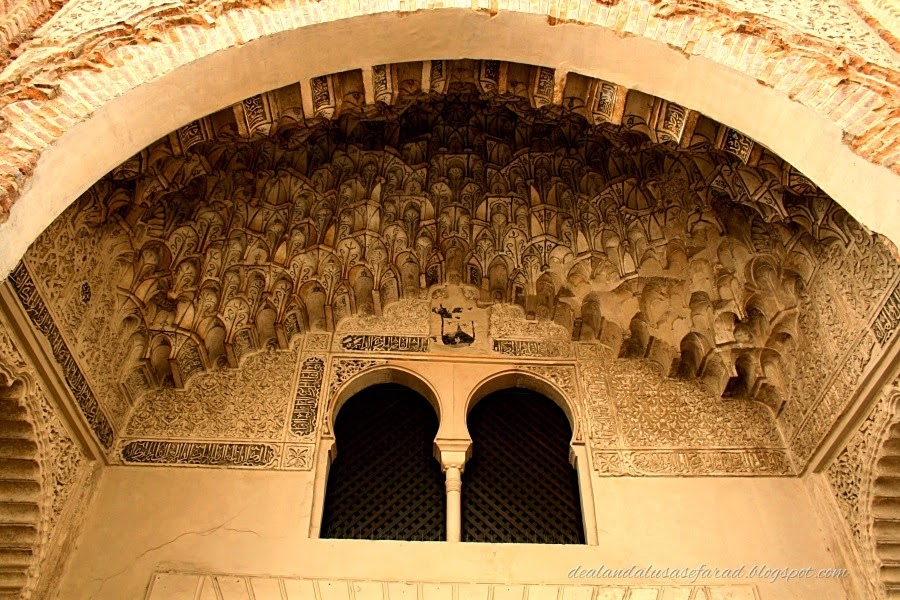arco-herradura: (312, 358, 454, 477), (450, 359, 588, 477)
